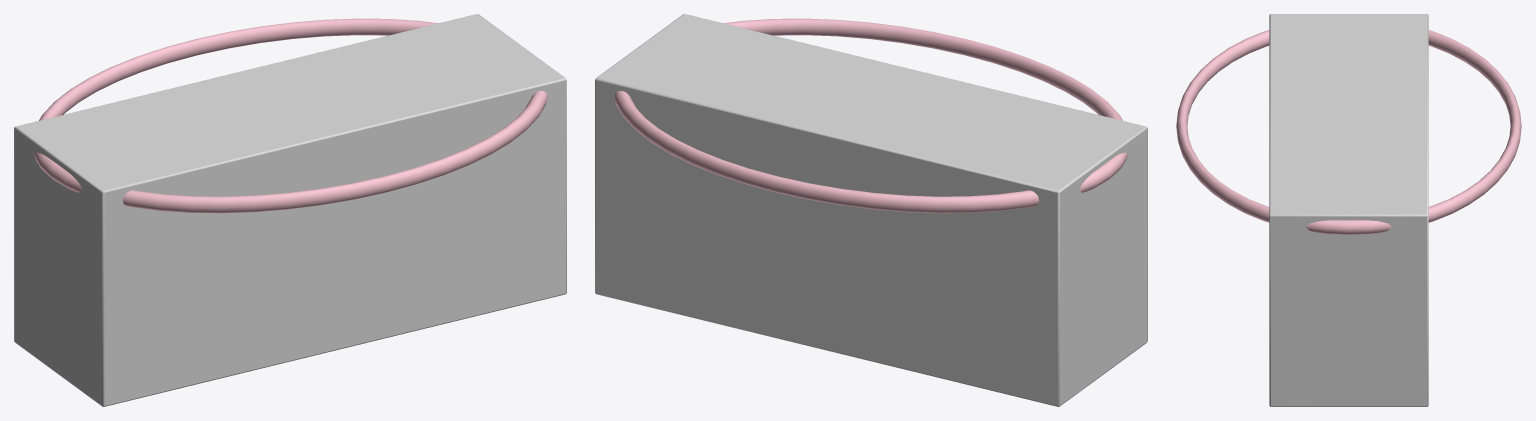
The model's file is SM_COS_UNDERWEAR_PANTIES.fbx.
3 views of the same model, side by side, from view 1: azimuth 30°, elevation 25°; view 2: azimuth 150°, elevation 25°; view 3: azimuth 270°, elevation 25° (orthographic). The views are drawn at different scales.
Visible parts, largest first — view 1: SM_COS_UNDERWEAR_PANTIES; view 2: SM_COS_UNDERWEAR_PANTIES; view 3: SM_COS_UNDERWEAR_PANTIES.
Boxes of the visible parts, x1,y1,x2,y2 form: SM_COS_UNDERWEAR_PANTIES: (14,14,566,406); SM_COS_UNDERWEAR_PANTIES: (595,14,1147,406); SM_COS_UNDERWEAR_PANTIES: (1176,14,1521,406).
Size of what is drawn, in the model's own units: 0.186 by 0.08 by 0.1302.
